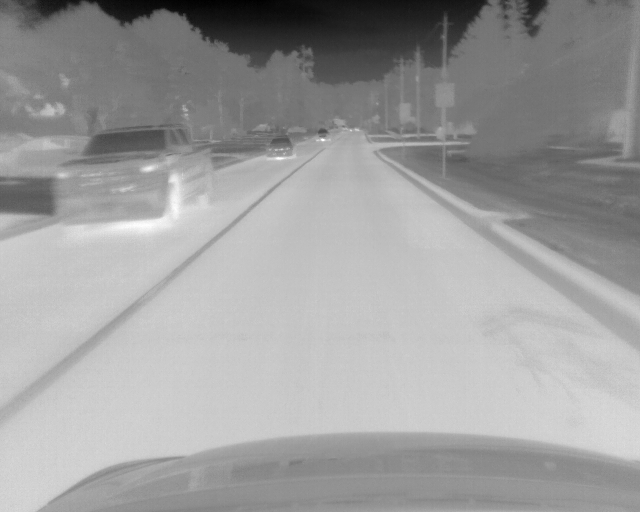car: (51, 124, 214, 229), (1, 131, 92, 181), (265, 138, 293, 159), (314, 128, 331, 142)
